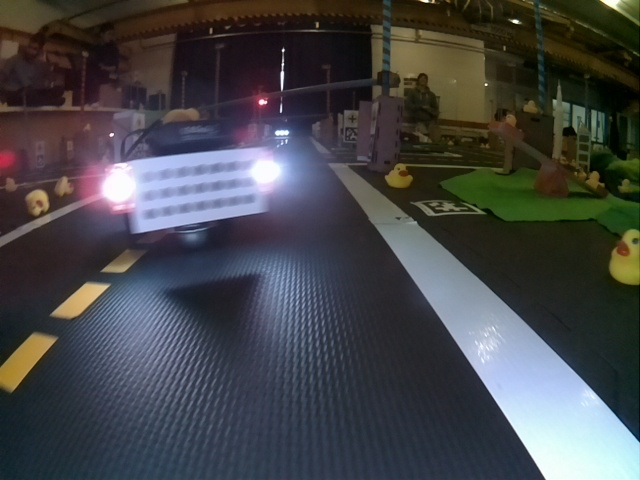Duckie: (609, 229, 639, 284), (386, 163, 412, 188), (26, 190, 47, 212), (57, 177, 70, 195), (524, 100, 534, 114), (505, 114, 514, 124)
Duckiebot: (107, 125, 274, 245)
Intersection sign: (345, 111, 355, 125)
QR code: (415, 200, 484, 216), (347, 129, 357, 142)
Traffic light: (258, 97, 267, 106)
